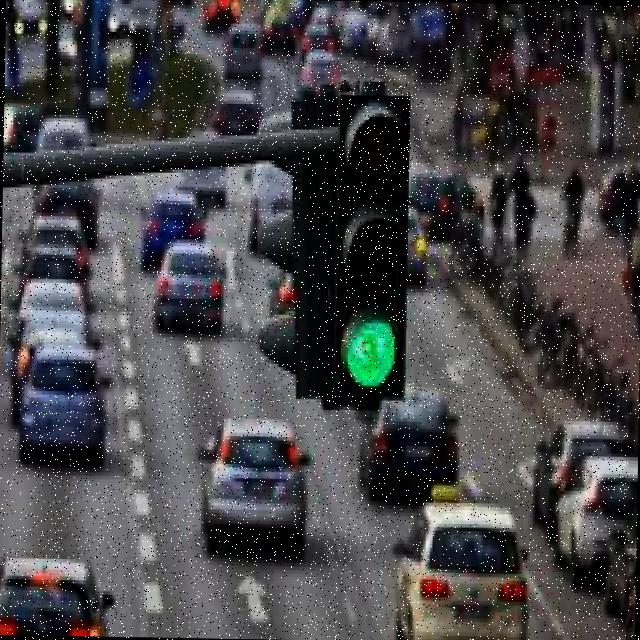Zielone swiatlo: (333, 88, 408, 400)
